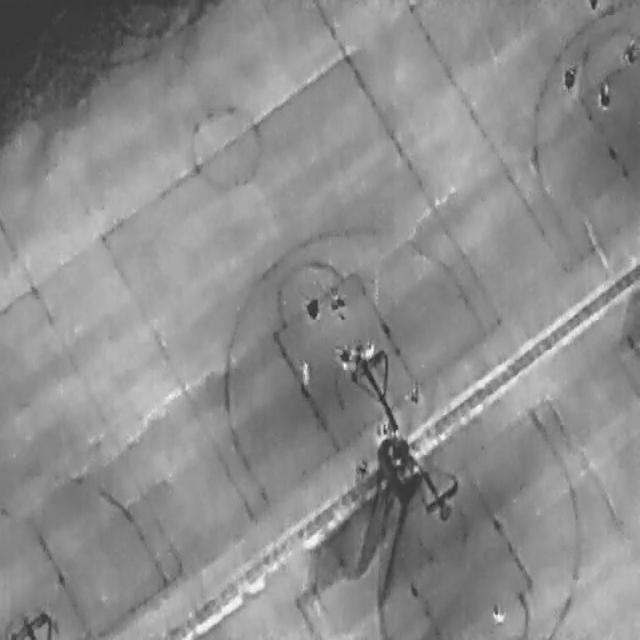Person: (560, 60, 577, 91), (620, 35, 637, 66), (597, 76, 611, 109), (489, 601, 506, 625), (328, 285, 344, 310), (304, 294, 319, 320), (299, 358, 310, 388), (337, 346, 351, 369), (355, 458, 369, 478), (377, 418, 390, 438), (362, 338, 374, 358), (407, 384, 419, 404)
